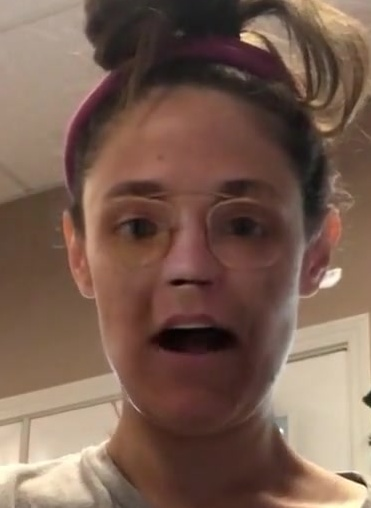n_f: (155, 200, 229, 292)
